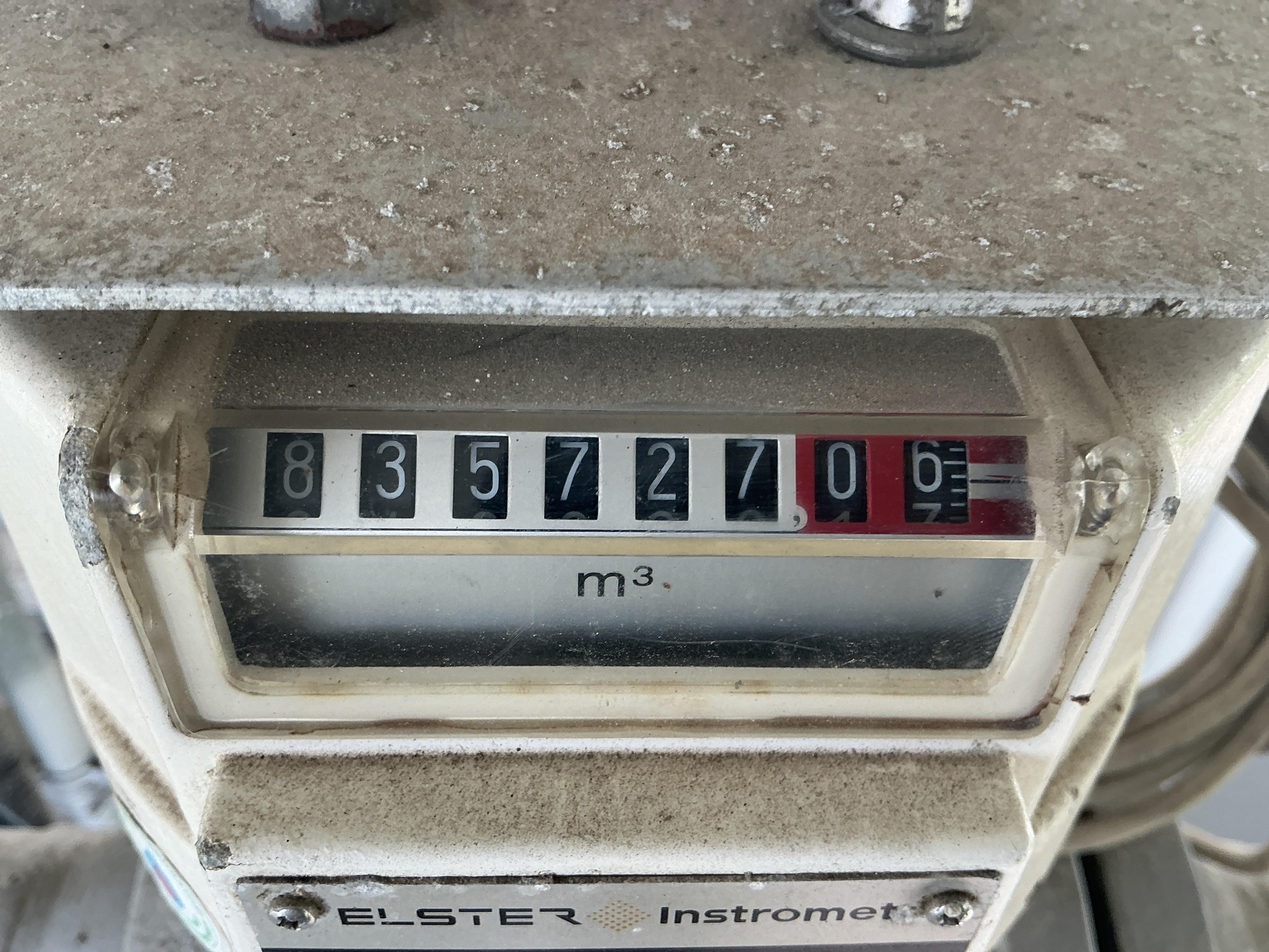analog_dial: (204, 427, 1035, 540)
